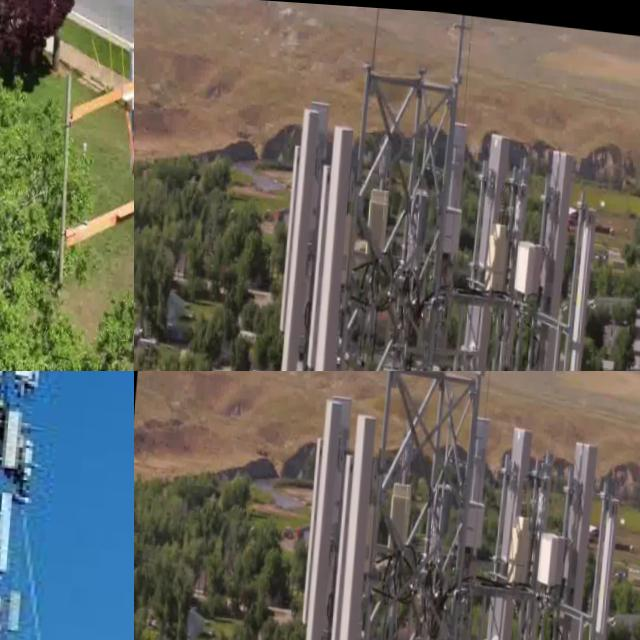GSM Antenna: (301, 372, 356, 640), (277, 102, 331, 371), (470, 118, 525, 371), (307, 114, 359, 371), (331, 385, 383, 640), (492, 404, 547, 640), (527, 135, 579, 371), (553, 416, 605, 640), (462, 405, 500, 573), (441, 100, 472, 303), (278, 132, 304, 345), (299, 414, 325, 626), (568, 206, 600, 371), (593, 485, 624, 640), (389, 464, 420, 548), (367, 178, 397, 262), (3, 400, 33, 464), (120, 25, 134, 158), (0, 485, 21, 571), (8, 586, 33, 631), (0, 590, 9, 638)
